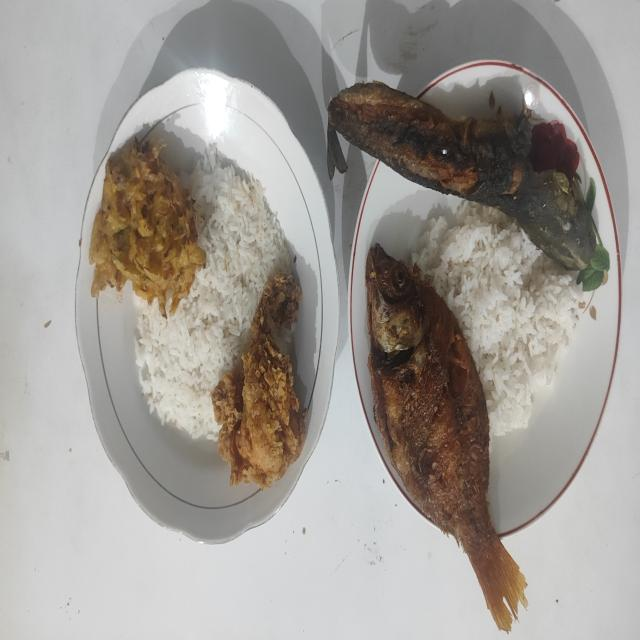ikan_mujair: (366, 244, 528, 632)
nasi_putih: (134, 146, 292, 440), (410, 201, 582, 437)
